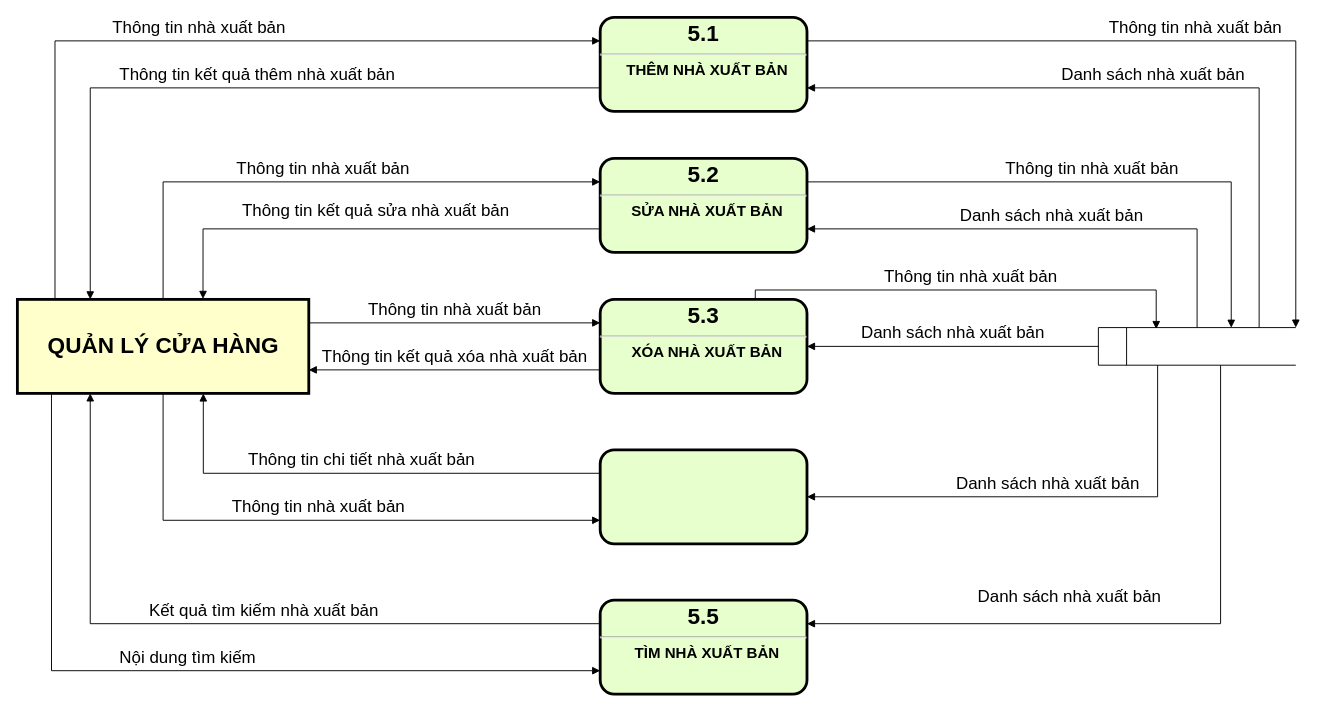
Image size: 1320x712. Some labels were removed from this diagram. The shapes that lost their labels are listed below. From the top down, each one's centre as x and y in pixels, then its label:
At (1196,346): "nhà xuất bản".
At (703,496): "5.4 XEM CHI TIẾT NHÀ XUẤT BẢN".
